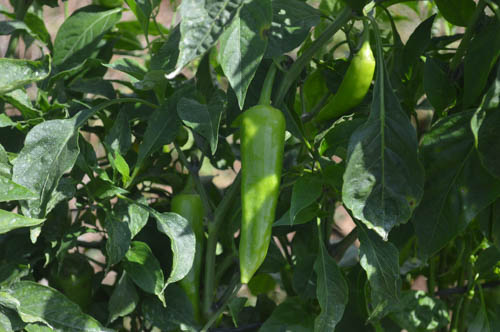ChiliPepper: (233, 111, 287, 290), (171, 190, 206, 308), (324, 51, 370, 124)
